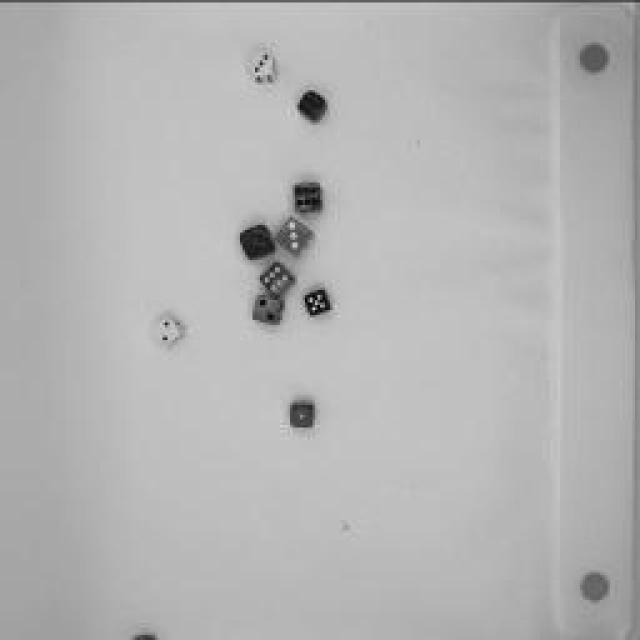dice_1: (285, 393, 320, 435)
dice_2: (154, 310, 186, 350), (252, 295, 286, 325)
dice_3: (238, 220, 278, 265), (276, 216, 319, 256), (246, 46, 284, 86)
dice_5: (304, 282, 336, 322)
dice_6: (294, 87, 336, 125), (256, 262, 299, 296), (292, 179, 326, 216)
